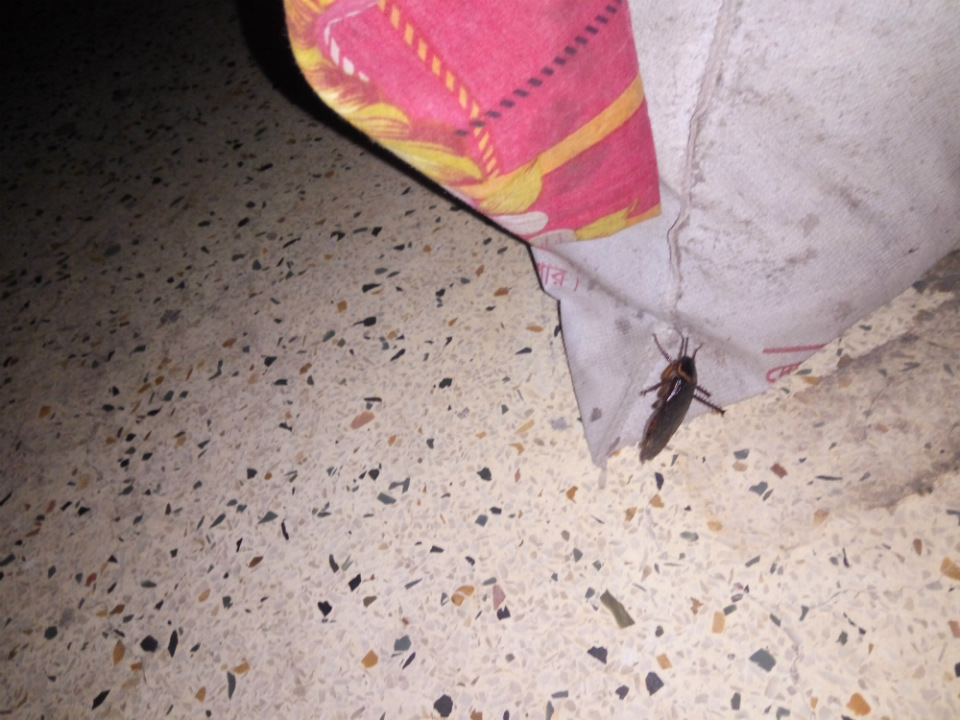cockroach: (575, 318, 782, 501)
